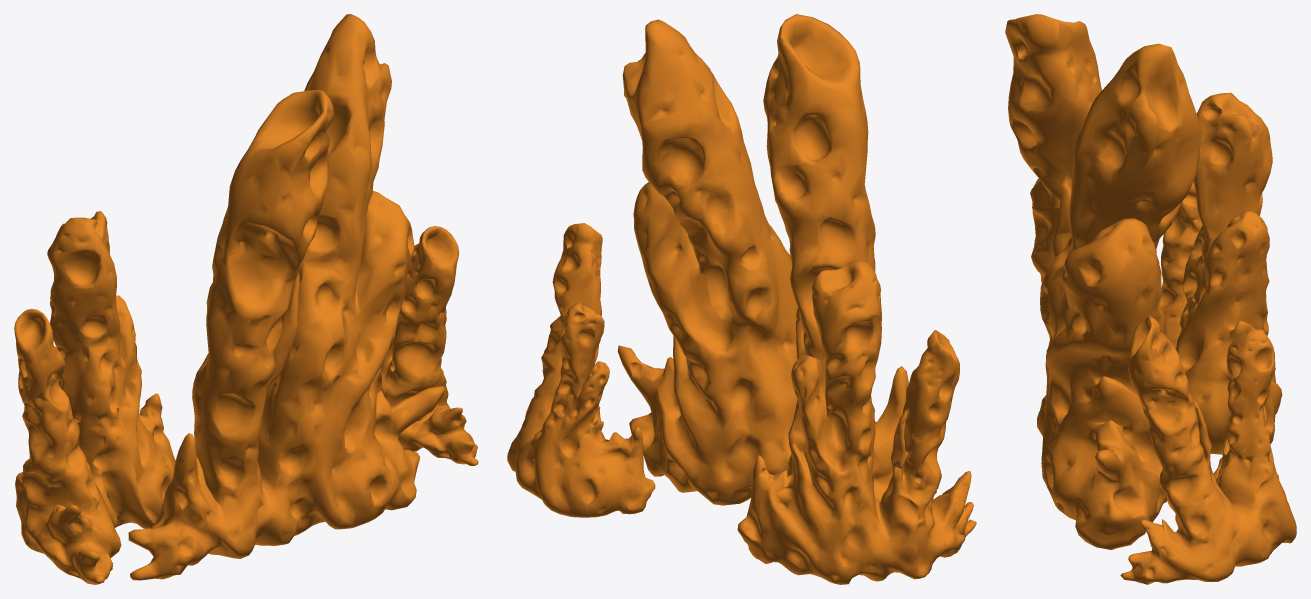
File: coral1.fbx
3 renders of one model, left to right at view 1: azimuth 30°, elevation 25°; view 2: azimuth 150°, elevation 25°; view 3: azimuth 270°, elevation 25°, orthographic. The views are drawn at different scales.
Parts seen in each view (by area): view 1: SM_Tree_C; view 2: SM_Tree_C; view 3: SM_Tree_C.
Boxes of the visible parts, x1,y1,x2,y2 form: SM_Tree_C: (14, 14, 478, 584); SM_Tree_C: (507, 14, 976, 584); SM_Tree_C: (1005, 14, 1296, 584).
Bounding box in the file's own units: 501 × 517 × 273.
